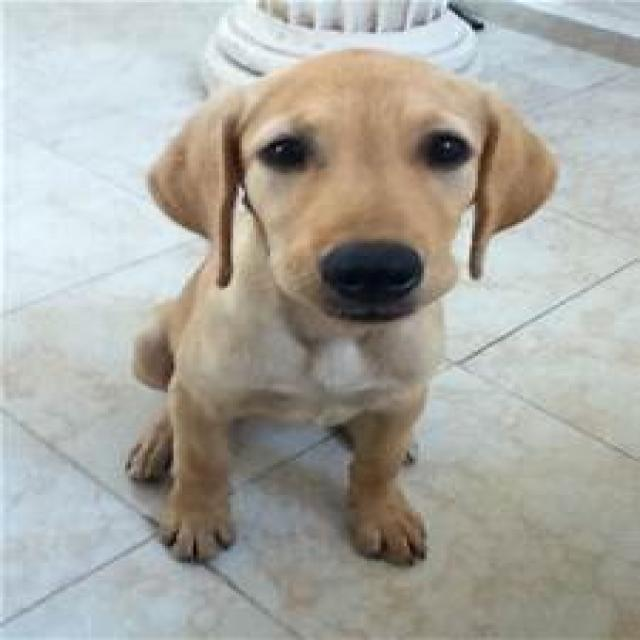dog: (128, 49, 558, 570)
